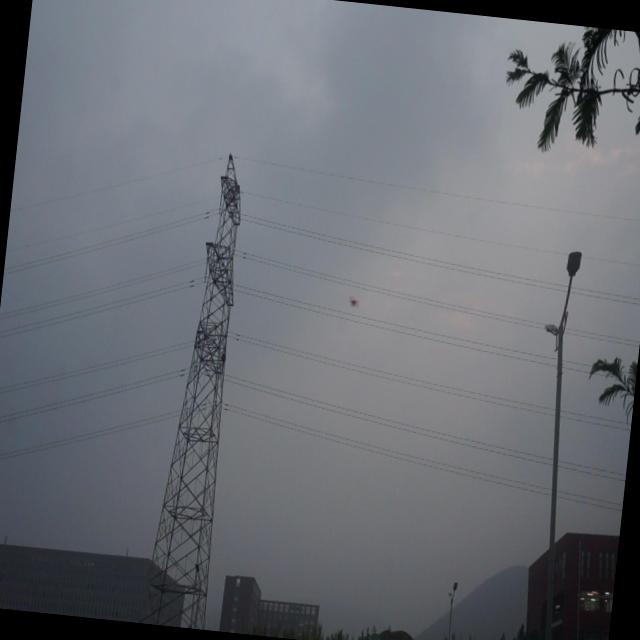drone: (346, 289, 362, 315)
